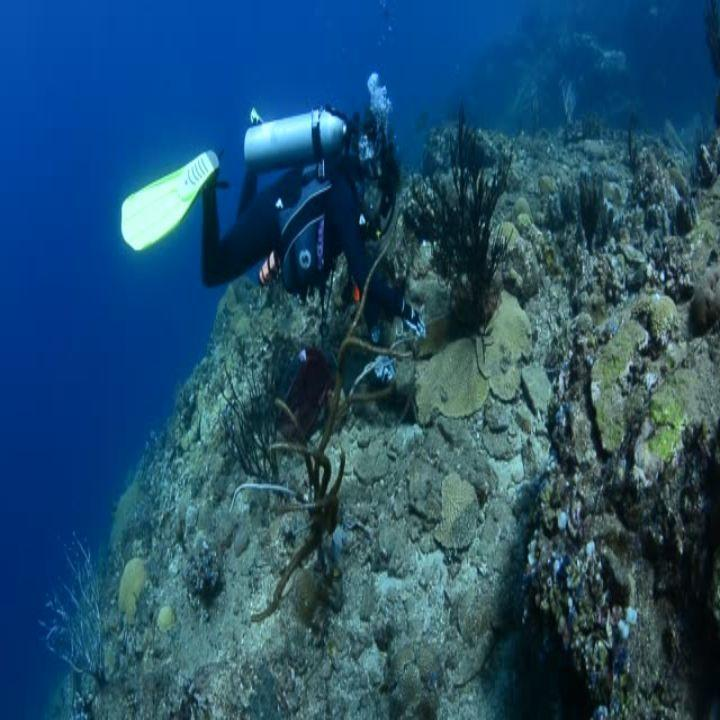Dead Coral: (440, 134, 694, 674)
